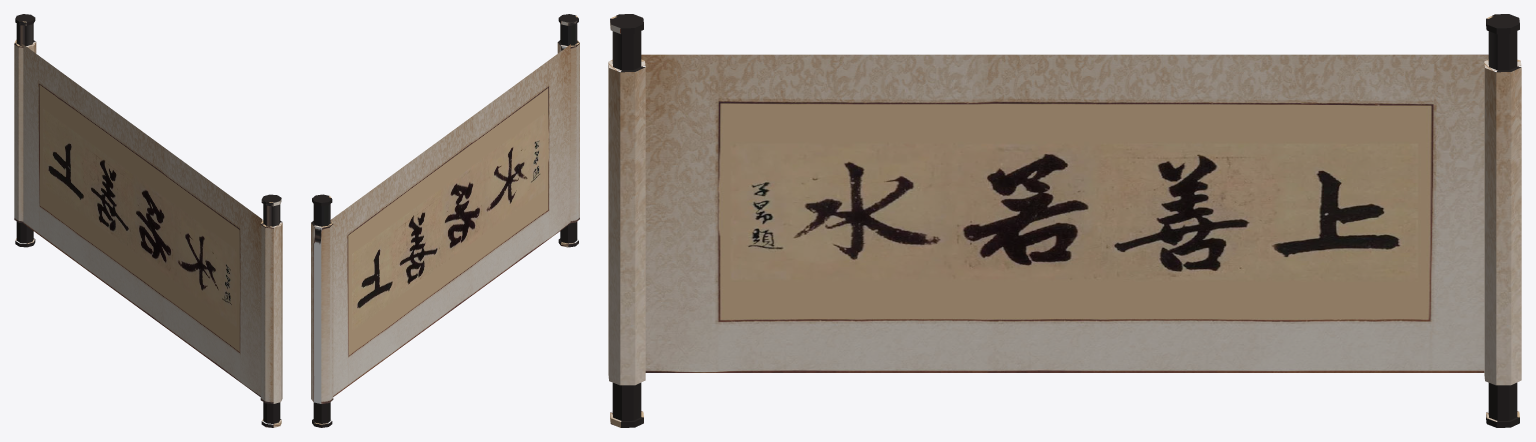
File: painting3.fbx
3 renders of one model, left to right at view 1: azimuth 30°, elevation 25°; view 2: azimuth 150°, elevation 25°; view 3: azimuth 270°, elevation 25°, orthographic. The views are drawn at different scales.
Parts seen in each view (by area): view 1: Cylinder.003; view 2: Cylinder.003; view 3: Cylinder.003.
Part boxes in pixels (x1,y1,x2,y2): Cylinder.003: (14, 14, 282, 427); Cylinder.003: (311, 14, 579, 427); Cylinder.003: (608, 14, 1521, 427).
Bounding box in the file's own units: 4.94 × 58.43 × 121.
